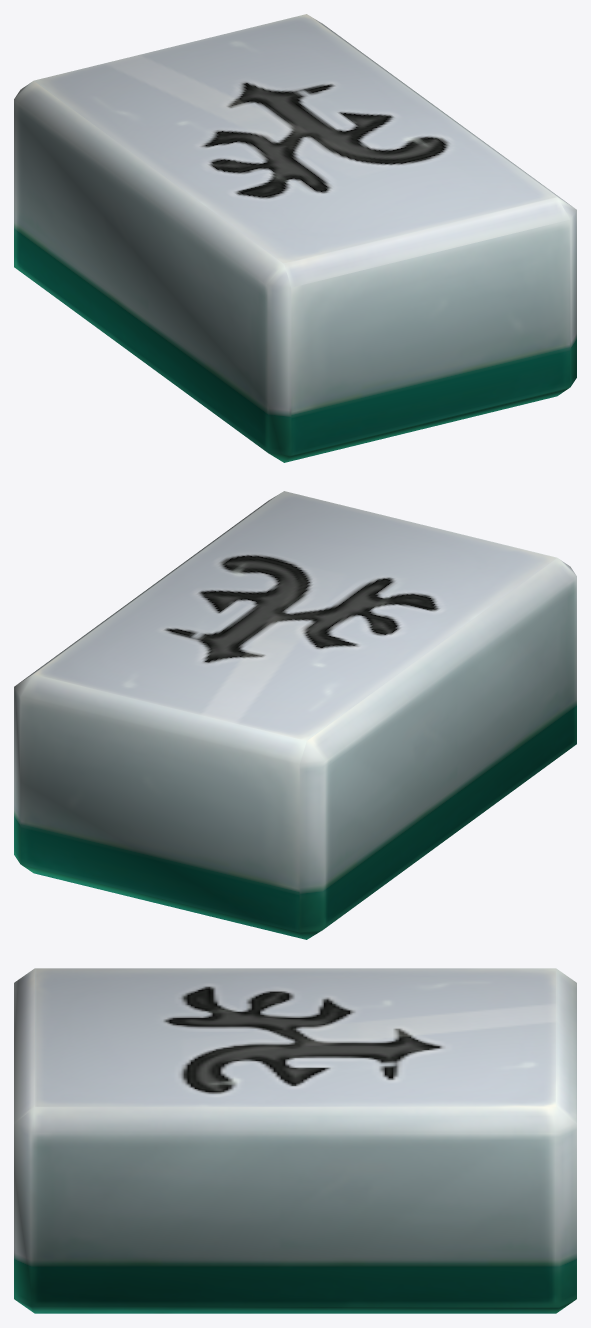
The model's file is bei.FBX.
3 renders of one model, top to bottom at view 1: azimuth 30°, elevation 25°; view 2: azimuth 150°, elevation 25°; view 3: azimuth 270°, elevation 25°, orthographic. The views are drawn at different scales.
Visible parts, largest first — view 1: bei; view 2: bei; view 3: bei.
Boxes of the visible parts, x1,y1,x2,y2 form: bei: (14,14,576,462); bei: (14,491,576,939); bei: (14,968,576,1313).
Size of the model in its own units: 20.77 by 12.78 by 31.51.
Materials: 1 (1 with a texture image).
